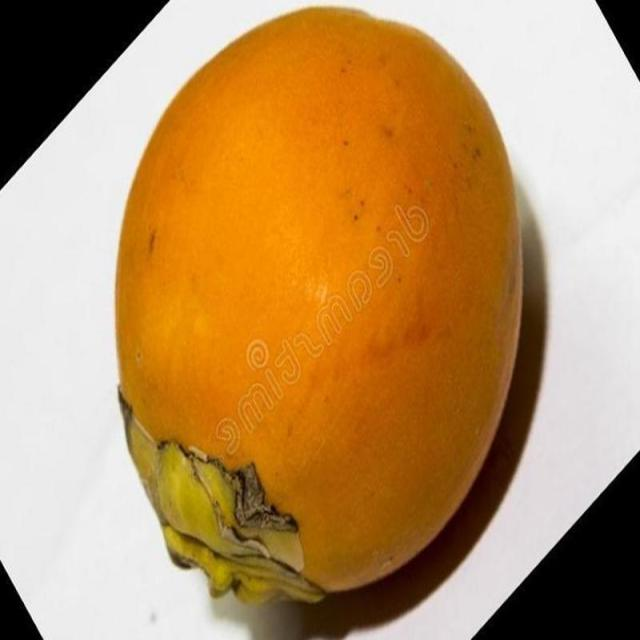good: (112, 7, 527, 612)
